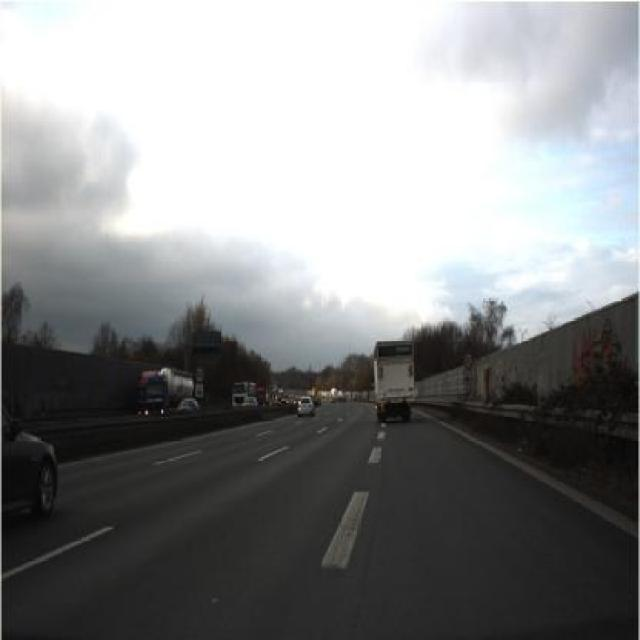forb_speed_over_80: (462, 349, 476, 371), (193, 363, 207, 383)
